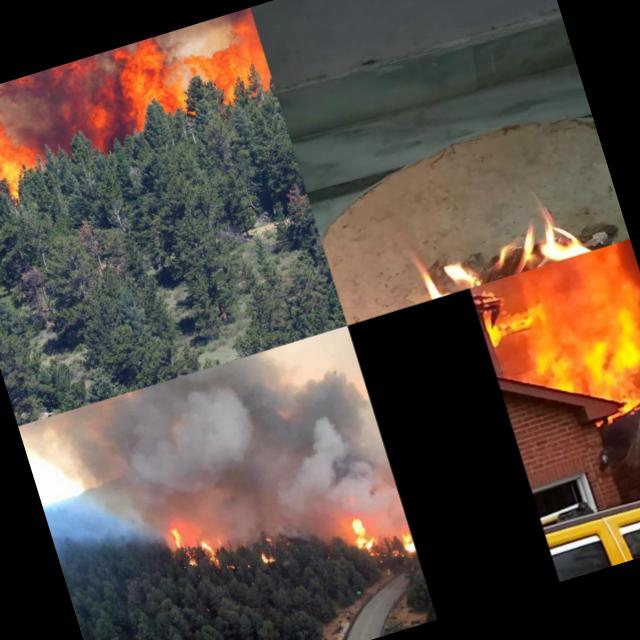fire: (469, 238, 640, 438), (368, 178, 612, 312), (189, 7, 276, 112), (108, 31, 196, 133), (0, 97, 48, 194), (156, 512, 226, 578), (77, 94, 125, 152), (340, 511, 384, 561), (251, 528, 282, 567), (394, 528, 419, 566)
smoke: (18, 324, 386, 554), (262, 463, 373, 540), (18, 50, 120, 119), (358, 452, 408, 536), (210, 492, 273, 544), (0, 78, 25, 120)
